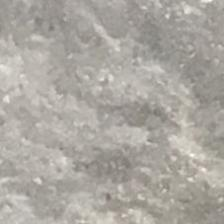Non_Crack: (28, 46, 194, 180)
